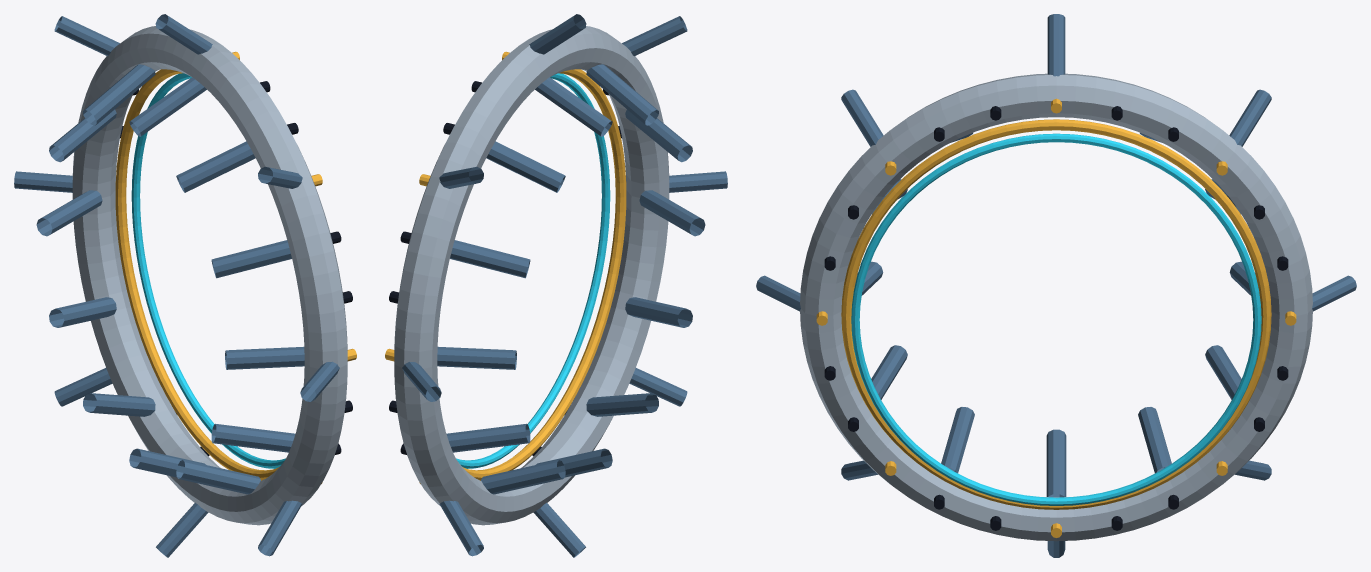
Rendered from 04_L85_DockingOuterGuideRing.fbx.
3 renders of one model, left to right at view 1: azimuth 30°, elevation 25°; view 2: azimuth 150°, elevation 25°; view 3: azimuth 270°, elevation 25°, orthographic.
Parts seen in each view (by area): view 1: L85_DockingOuterGuideRing_Part_0000, L85_DockingOuterGuideRing_Part_0005, L85_DockingOuterGuideRing_Part_0006, L85_DockingOuterGuideRing_Part_0001, L85_DockingOuterGuideRing_Part_0002, L85_DockingOuterGuideRing_Part_0003; view 2: L85_DockingOuterGuideRing_Part_0000, L85_DockingOuterGuideRing_Part_0005, L85_DockingOuterGuideRing_Part_0006, L85_DockingOuterGuideRing_Part_0001, L85_DockingOuterGuideRing_Part_0002, L85_DockingOuterGuideRing_Part_0003; view 3: L85_DockingOuterGuideRing_Part_0000, L85_DockingOuterGuideRing_Part_0001, L85_DockingOuterGuideRing_Part_0002, L85_DockingOuterGuideRing_Part_0005, L85_DockingOuterGuideRing_Part_0006, L85_DockingOuterGuideRing_Part_0003.
Part boxes in pixels (x1,y1,x2,y2): L85_DockingOuterGuideRing_Part_0000: [72, 26, 347, 525]; L85_DockingOuterGuideRing_Part_0005: [14, 14, 339, 557]; L85_DockingOuterGuideRing_Part_0006: [36, 64, 205, 477]; L85_DockingOuterGuideRing_Part_0001: [115, 51, 356, 483]; L85_DockingOuterGuideRing_Part_0002: [131, 73, 285, 468]; L85_DockingOuterGuideRing_Part_0003: [120, 81, 352, 456]; L85_DockingOuterGuideRing_Part_0000: [394, 26, 669, 525]; L85_DockingOuterGuideRing_Part_0005: [402, 14, 727, 557]; L85_DockingOuterGuideRing_Part_0006: [437, 141, 612, 494]; L85_DockingOuterGuideRing_Part_0001: [385, 51, 626, 483]; L85_DockingOuterGuideRing_Part_0002: [456, 73, 610, 468]; L85_DockingOuterGuideRing_Part_0003: [389, 89, 621, 456]; L85_DockingOuterGuideRing_Part_0000: [800, 73, 1312, 541]; L85_DockingOuterGuideRing_Part_0001: [816, 98, 1296, 537]; L85_DockingOuterGuideRing_Part_0002: [851, 133, 1261, 505]; L85_DockingOuterGuideRing_Part_0005: [756, 14, 1356, 557]; L85_DockingOuterGuideRing_Part_0006: [1046, 133, 1255, 497]; L85_DockingOuterGuideRing_Part_0003: [824, 106, 1288, 530].
Size of the model in its own units: 101 by 484 by 485.
